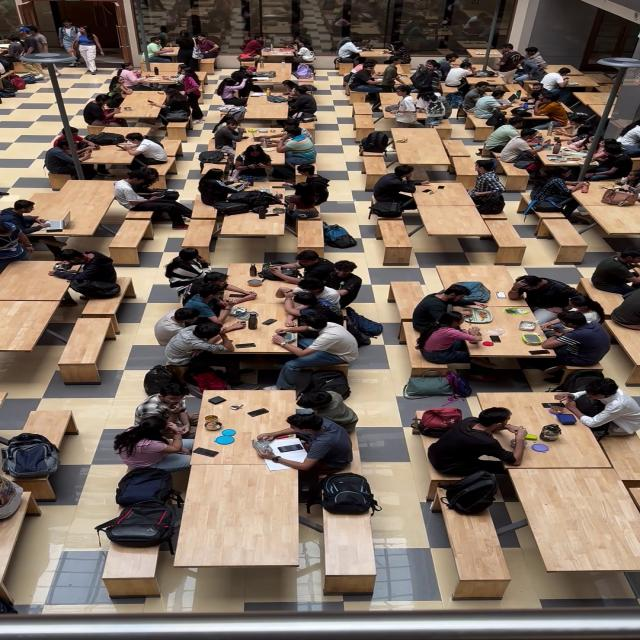Occupied: (477, 390, 617, 470), (184, 388, 308, 464), (176, 312, 348, 356), (427, 407, 524, 477), (20, 181, 121, 243), (255, 411, 351, 476), (212, 68, 308, 129), (552, 377, 637, 438), (268, 383, 359, 436), (279, 324, 360, 382), (112, 175, 191, 230), (114, 416, 190, 472), (159, 323, 243, 369), (464, 323, 568, 359), (422, 324, 486, 380), (84, 141, 176, 179), (499, 146, 573, 191), (179, 272, 257, 314), (410, 285, 482, 328), (509, 276, 590, 314), (136, 384, 195, 436), (541, 327, 608, 372), (391, 128, 453, 176), (526, 168, 586, 217), (372, 95, 450, 132), (49, 251, 118, 291), (46, 131, 104, 178), (244, 61, 311, 100), (164, 246, 227, 286), (371, 166, 430, 208), (268, 253, 336, 286), (192, 356, 259, 388), (197, 168, 249, 209), (0, 201, 49, 244), (510, 70, 560, 112), (591, 252, 640, 294), (0, 221, 38, 275), (277, 278, 341, 310), (281, 181, 327, 223), (482, 120, 532, 158), (274, 126, 316, 171), (584, 143, 632, 182), (466, 161, 505, 208), (318, 260, 363, 299), (152, 89, 193, 129), (82, 94, 126, 128), (233, 144, 274, 180), (347, 61, 389, 95), (242, 92, 289, 122), (232, 128, 290, 152), (216, 75, 254, 111), (550, 112, 594, 141), (212, 115, 248, 150), (115, 97, 163, 123), (299, 304, 346, 330), (281, 89, 318, 122), (470, 89, 509, 119), (496, 45, 528, 80), (0, 46, 31, 82), (118, 64, 153, 92), (537, 66, 567, 98), (615, 122, 640, 158), (379, 59, 408, 90), (336, 30, 364, 61), (188, 276, 227, 298), (344, 306, 376, 332), (192, 34, 220, 61), (438, 55, 468, 80), (144, 38, 172, 63), (288, 40, 314, 65), (384, 41, 411, 65), (305, 181, 331, 204), (240, 36, 265, 58), (173, 31, 195, 54), (233, 65, 261, 82), (181, 75, 201, 97)
Unoccupied: (511, 465, 640, 573), (172, 462, 300, 569), (436, 485, 512, 599), (411, 182, 498, 262), (321, 498, 376, 596), (100, 538, 162, 598), (0, 492, 32, 606), (56, 320, 112, 374), (432, 264, 520, 296), (0, 266, 73, 302), (220, 208, 288, 246), (535, 220, 588, 264), (18, 410, 76, 450), (106, 218, 156, 264), (478, 218, 528, 264), (442, 139, 488, 187), (600, 423, 640, 475), (590, 202, 640, 237), (378, 219, 414, 264), (7, 472, 57, 502), (132, 71, 188, 95), (189, 185, 227, 219), (378, 92, 431, 114), (181, 219, 218, 250), (198, 146, 236, 175), (361, 154, 391, 185), (468, 48, 504, 73), (296, 220, 324, 252), (440, 80, 484, 100), (352, 112, 375, 142), (441, 138, 471, 158), (358, 50, 394, 62), (165, 140, 184, 157), (555, 65, 584, 75), (163, 49, 174, 53)
